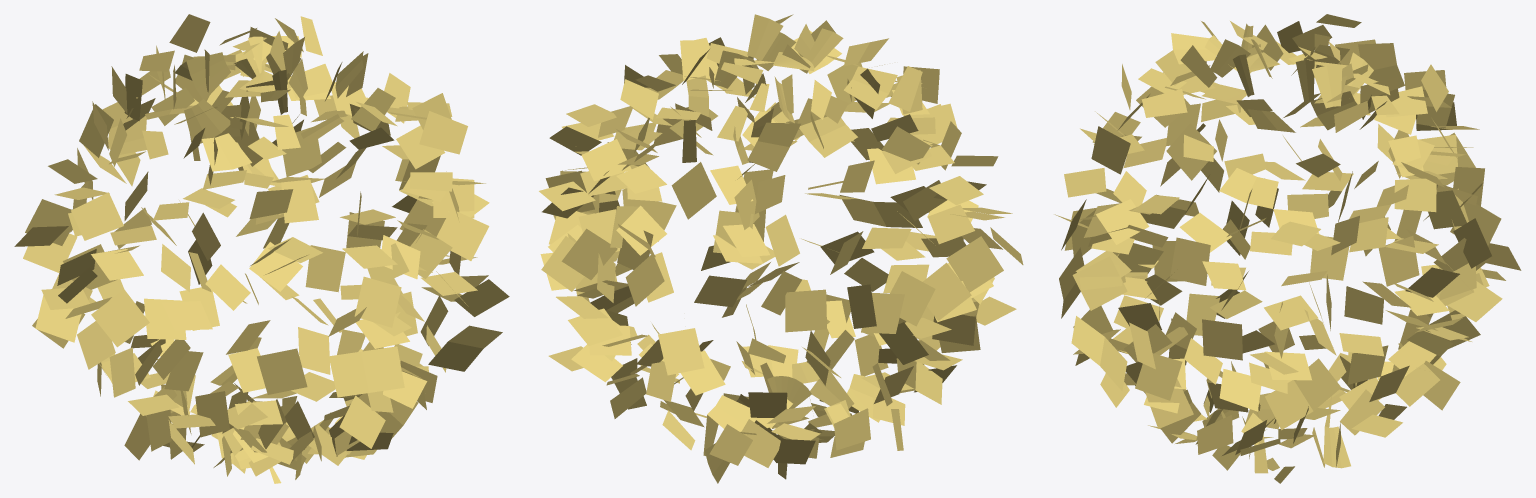
The model's file is planet_particles_1.dae.
3 renders of one model, left to right at view 1: azimuth 30°, elevation 25°; view 2: azimuth 150°, elevation 25°; view 3: azimuth 270°, elevation 25°, orthographic.
Parts seen in each view (by area): view 1: planet_particles_1_Sphere_000; view 2: planet_particles_1_Sphere_000; view 3: planet_particles_1_Sphere_000.
Part boxes in pixels (bbox=[...]): planet_particles_1_Sphere_000: bbox=[14, 14, 509, 483]; planet_particles_1_Sphere_000: bbox=[539, 14, 1023, 483]; planet_particles_1_Sphere_000: bbox=[1054, 14, 1521, 483].
Size of the model in its own units: 28.02 by 27.43 by 27.6.
